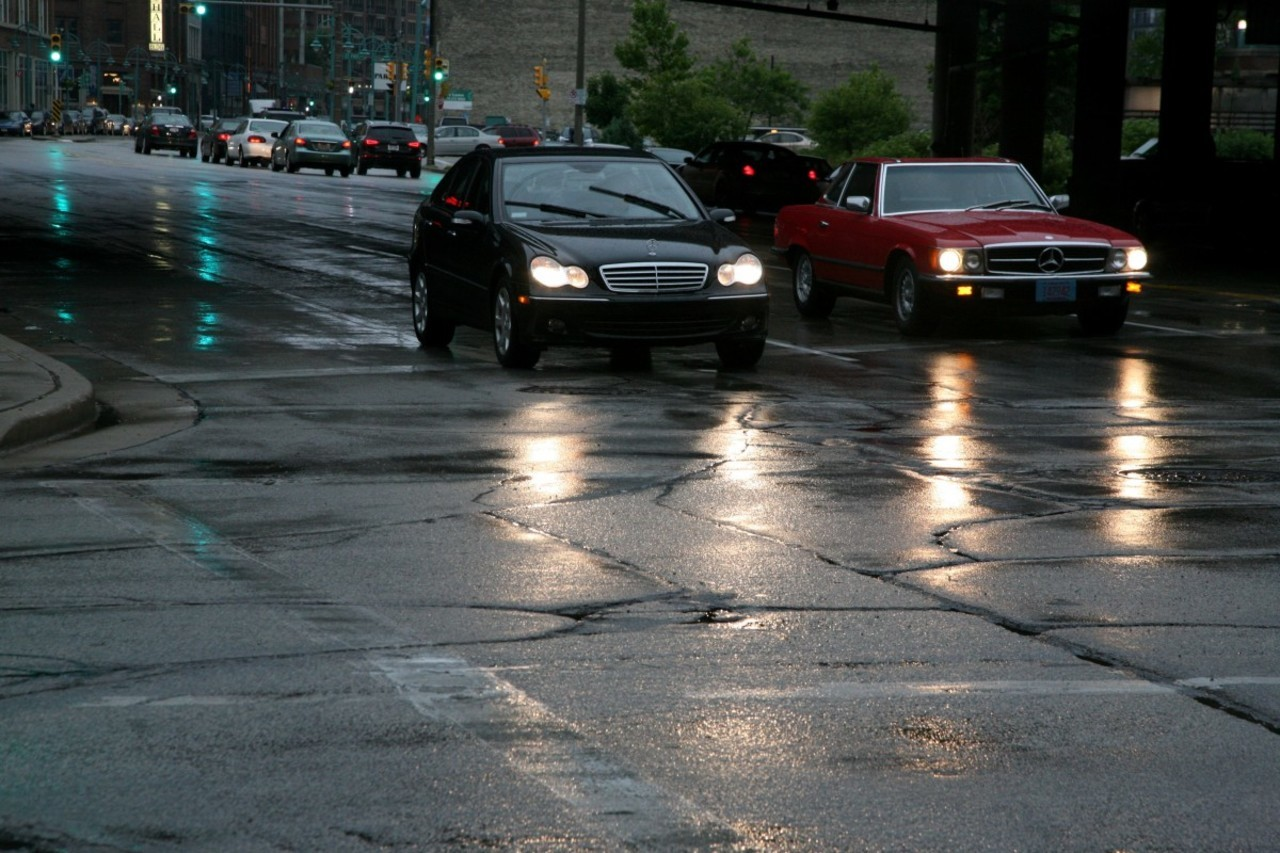car: (405, 147, 775, 373), (775, 156, 1146, 335), (272, 119, 360, 176), (350, 122, 425, 178), (222, 117, 291, 168), (130, 105, 189, 153), (429, 122, 499, 154), (483, 116, 544, 152), (199, 116, 228, 162)
